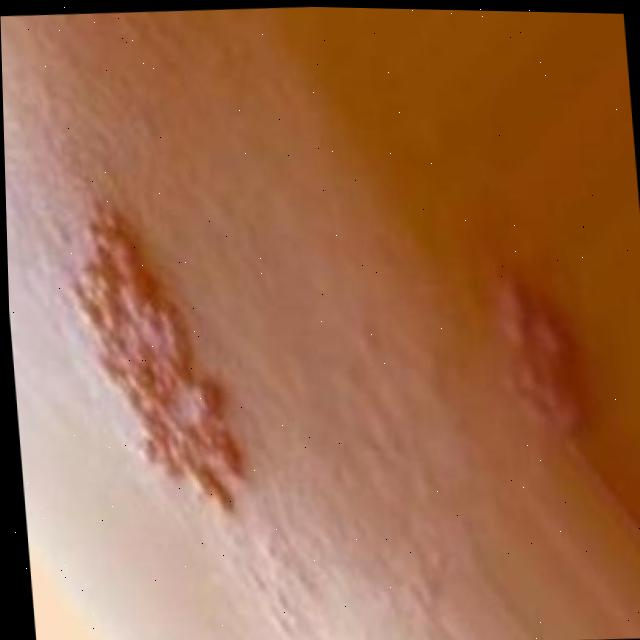Shingles: (64, 202, 269, 530), (485, 283, 584, 431)
